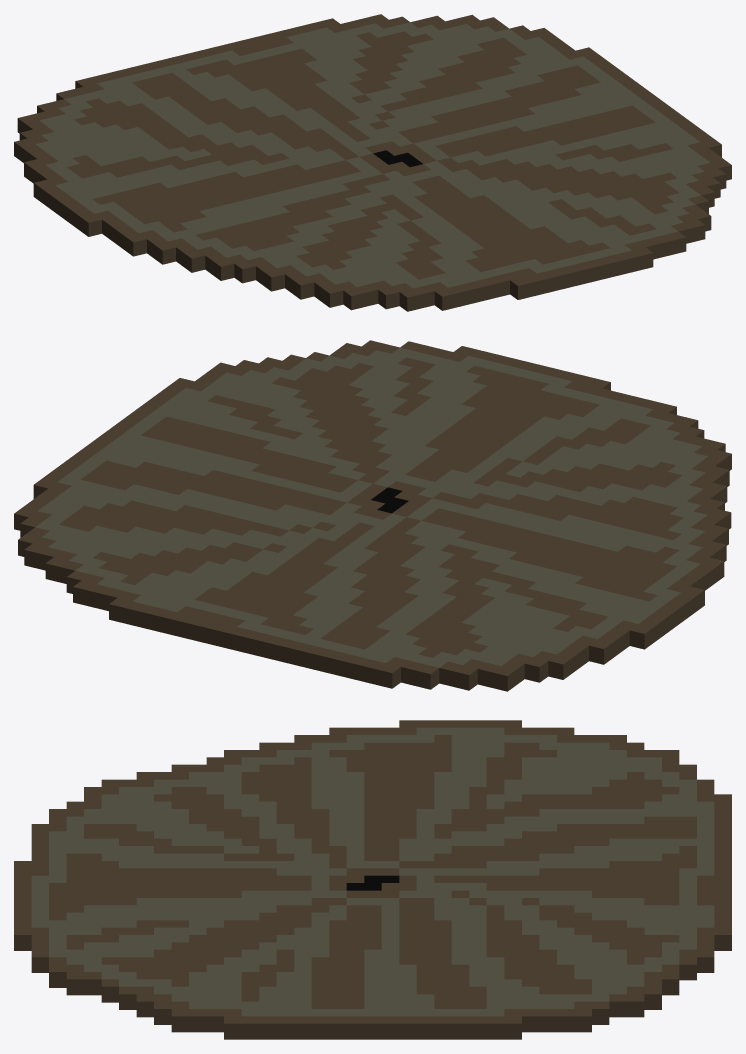
Rendered from ground_hole_1.obj.
3 renders of one model, top to bottom at view 1: azimuth 30°, elevation 25°; view 2: azimuth 150°, elevation 25°; view 3: azimuth 270°, elevation 25°, orthographic. The views are drawn at different scales.
Bounding box in the file's own units: 4.1 × 0.1 × 4.1.
Materials: 1 (1 with a texture image).
